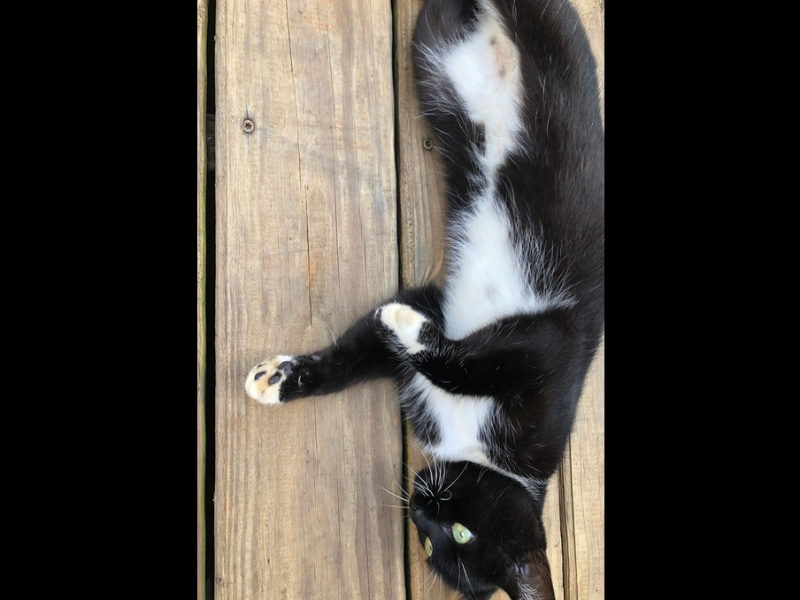cat: (246, 3, 601, 594)
